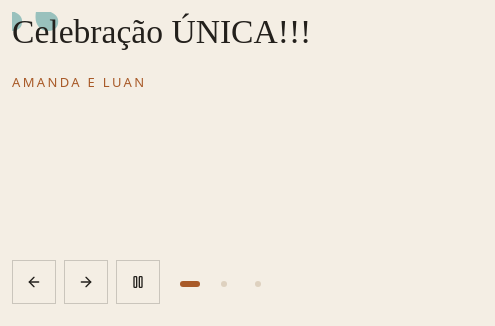
Test: TestimonialCarousel › avança e volta pelos controles
The width and height of the screenshot is (495, 326).
Click the 2nd button named "Próximo depoimento" at (86, 282), box [64,260,108,304]
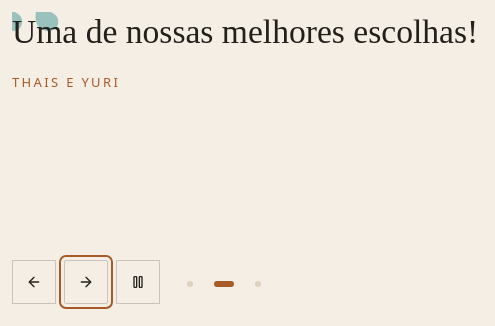
Expected: the text "Uma de nossas melhores escolhas!" is shown, [12,13,478,50]
Click the 1st button named "Depoimento anterior" at (34, 282), box [12,260,56,304]
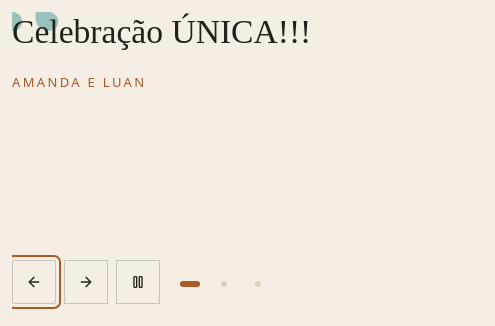
Expected: the text "Celebração ÚNICA!!!" is shown, [12,13,311,50]
